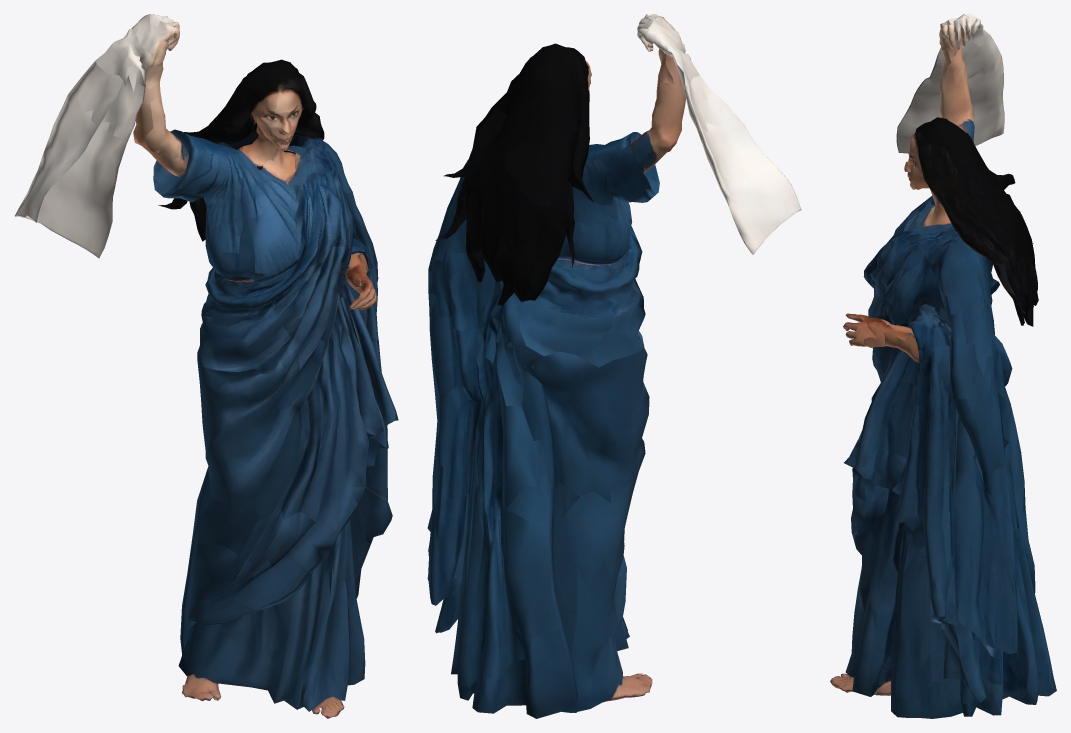
File: woman_f2_cheer.glb
3 renders of one model, left to right at view 1: azimuth 30°, elevation 25°; view 2: azimuth 150°, elevation 25°; view 3: azimuth 270°, elevation 25°, orthographic. The views are drawn at different scales.
Bounding box in the file's own units: 0.5468 × 1 × 0.3281.
Materials: 1 (1 with a texture image).
